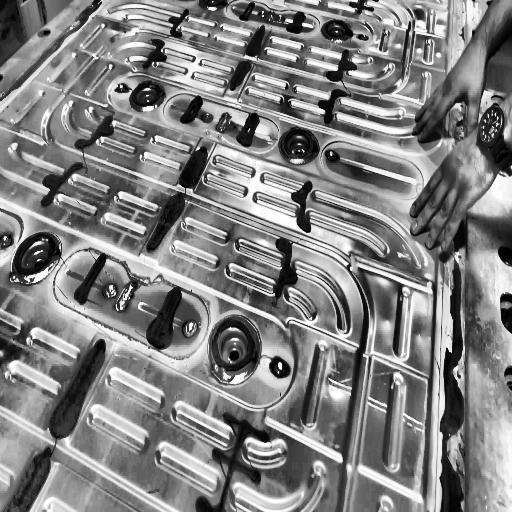b_casing: (1, 0, 512, 512)
